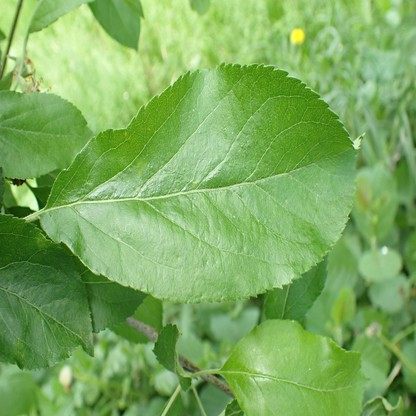scab: (355, 176, 371, 211), (132, 159, 148, 180), (375, 192, 388, 209)
